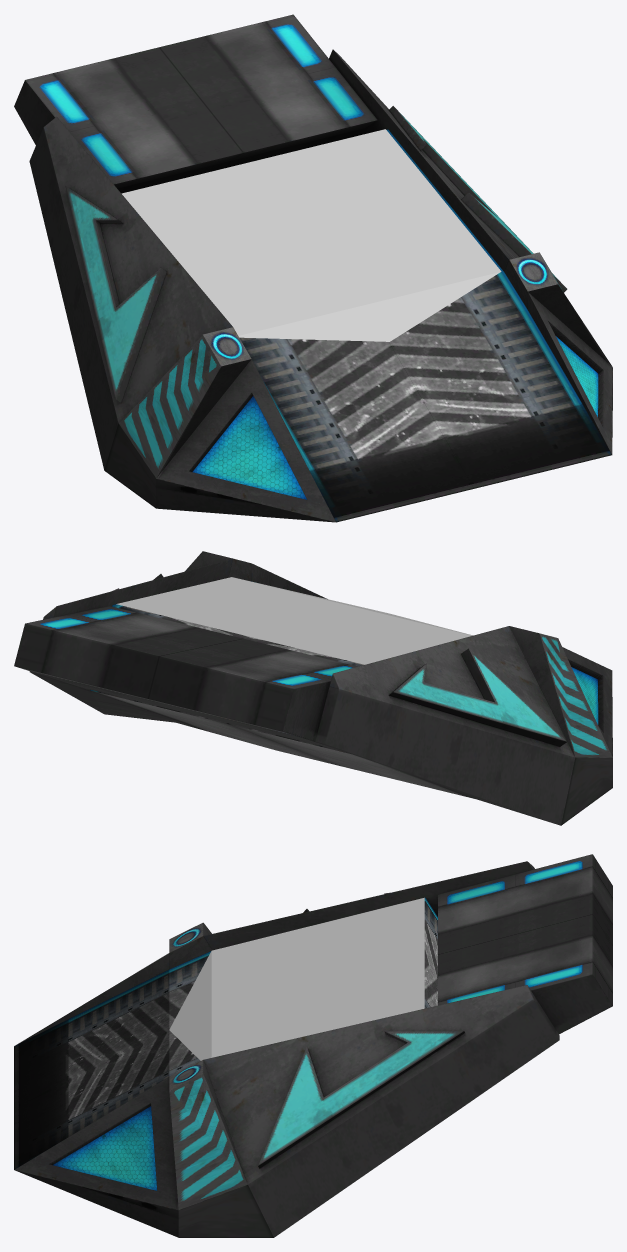
The model's file is AcceleratorPad45.fbx.
The picture shows the model from 3 angles, top to bottom: view 1: azimuth 30°, elevation 25°; view 2: azimuth 150°, elevation 25°; view 3: azimuth 270°, elevation 25°; orthographic projection. The views are drawn at different scales.
Parts seen in each view (by area): view 1: polySurface43; view 2: polySurface43; view 3: polySurface43.
Boxes of the visible parts, bbox=[...] form: polySurface43: bbox=[14, 14, 612, 522]; polySurface43: bbox=[14, 551, 612, 825]; polySurface43: bbox=[14, 854, 612, 1237].
Bounding box in the file's own units: 1.82 × 0.9151 × 2.25.
